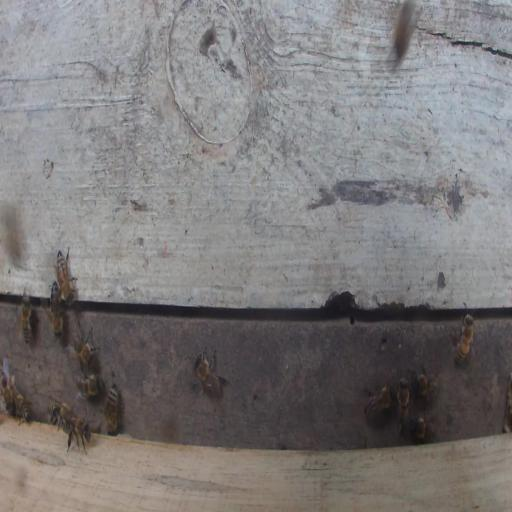bee: (193, 349, 230, 398), (450, 310, 475, 366), (71, 326, 99, 371), (56, 245, 76, 306), (364, 380, 393, 421), (65, 414, 92, 455), (411, 366, 439, 402), (409, 413, 438, 442), (396, 377, 410, 437), (50, 280, 63, 340), (74, 373, 103, 399), (20, 291, 33, 347), (105, 382, 118, 435), (49, 402, 73, 430), (1, 367, 14, 412), (14, 391, 30, 424)
